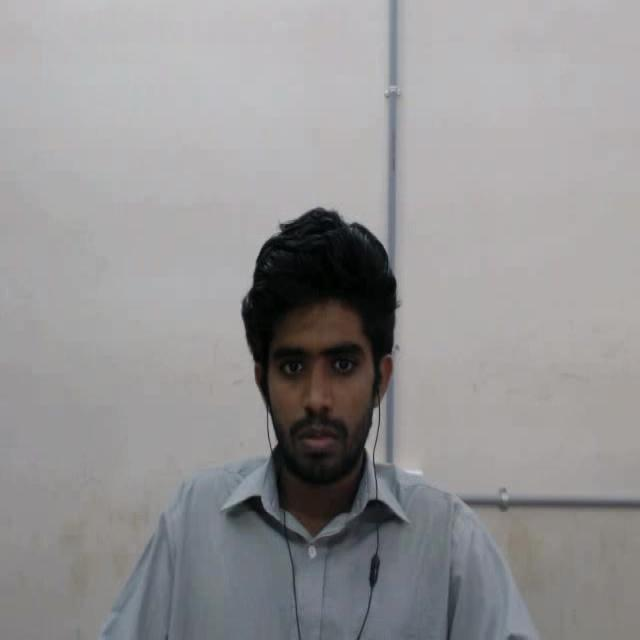Engaged: (216, 182, 427, 519)
